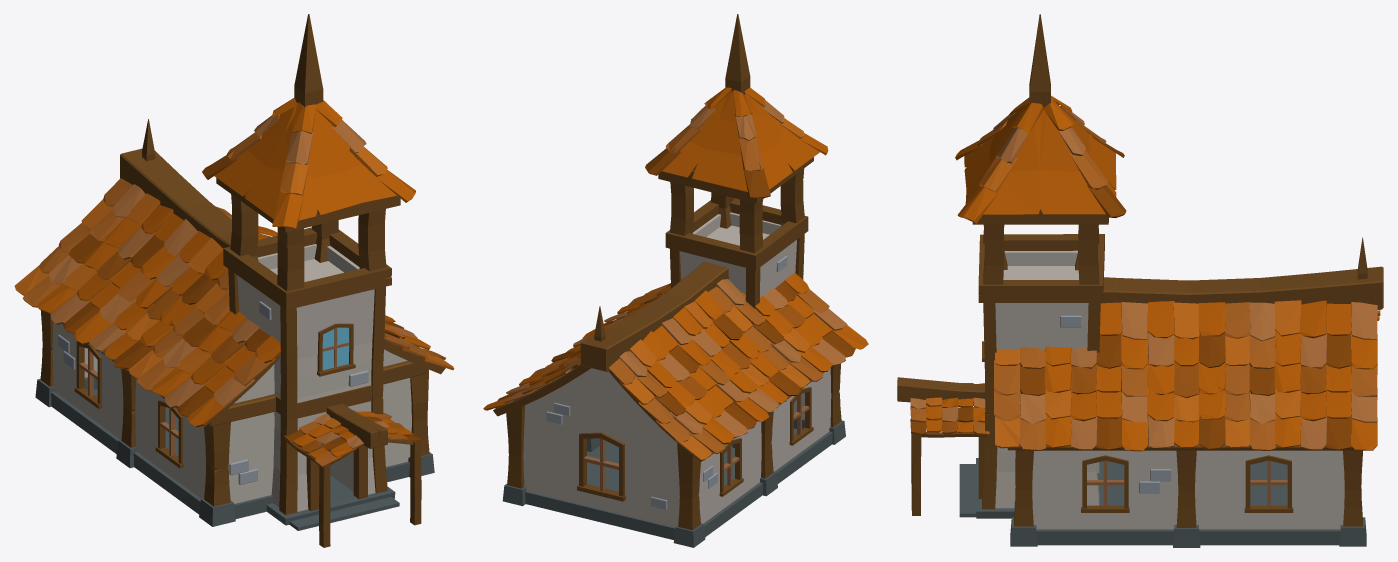
The model's file is Church.fbx.
3 views of the same model, side by side, from view 1: azimuth 30°, elevation 25°; view 2: azimuth 150°, elevation 25°; view 3: azimuth 270°, elevation 25° (orthographic). The views are drawn at different scales.
Visible parts, largest first — view 1: Church; view 2: Church; view 3: Church.
Part boxes in pixels (x1,y1,x2,y2): Church: (14,14,454,547); Church: (483,14,868,547); Church: (897,14,1383,547).
Bounding box in the file's own units: 733 × 1258 × 1160.
